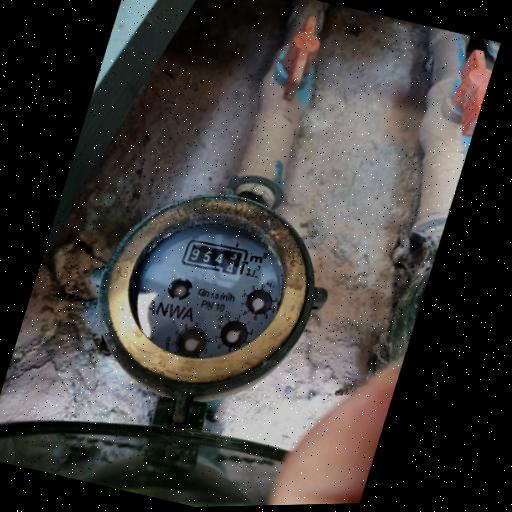3: (221, 250, 243, 276)
4: (210, 247, 228, 268)
5: (198, 246, 217, 266)
9: (187, 243, 204, 263)
border_water_meter_number: (180, 235, 251, 279)
